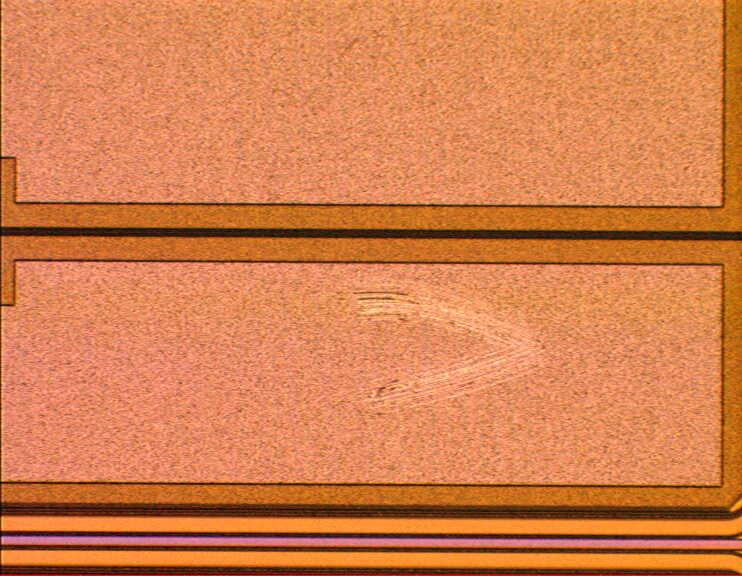SCRATCH: (349, 277, 568, 409)
